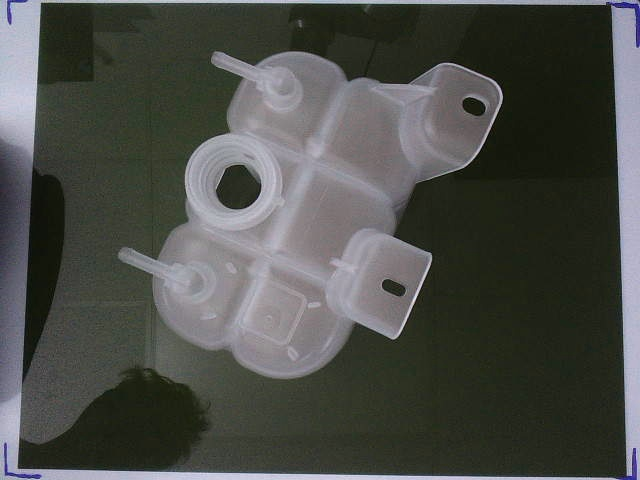reservoir_transparent_Top: (118, 52, 503, 378)
